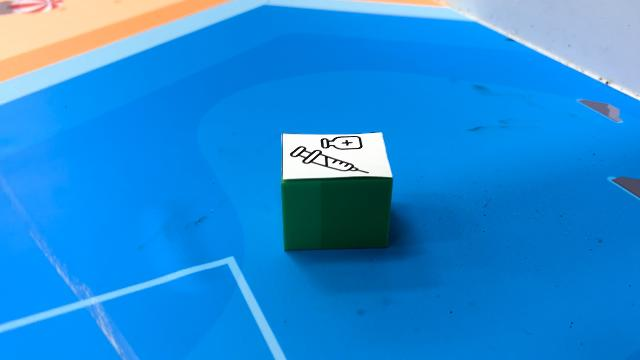syringe: (281, 131, 394, 251)
